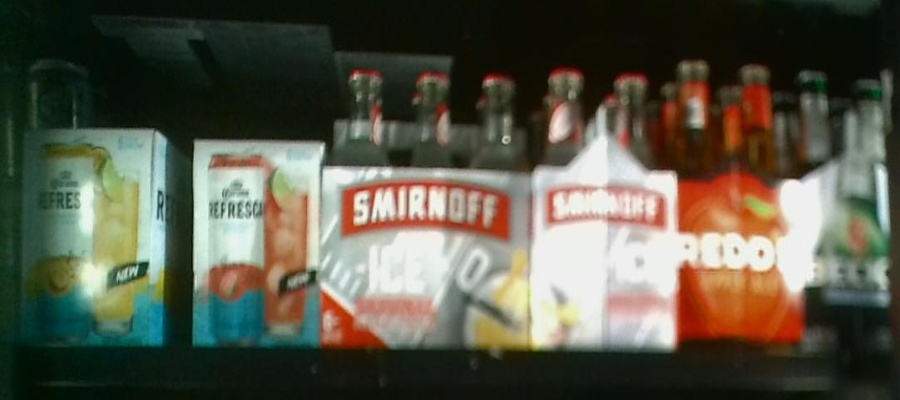bottle: (327, 63, 528, 355), (529, 62, 675, 348), (20, 129, 192, 349), (677, 57, 804, 340), (193, 140, 322, 345), (799, 69, 894, 303)
